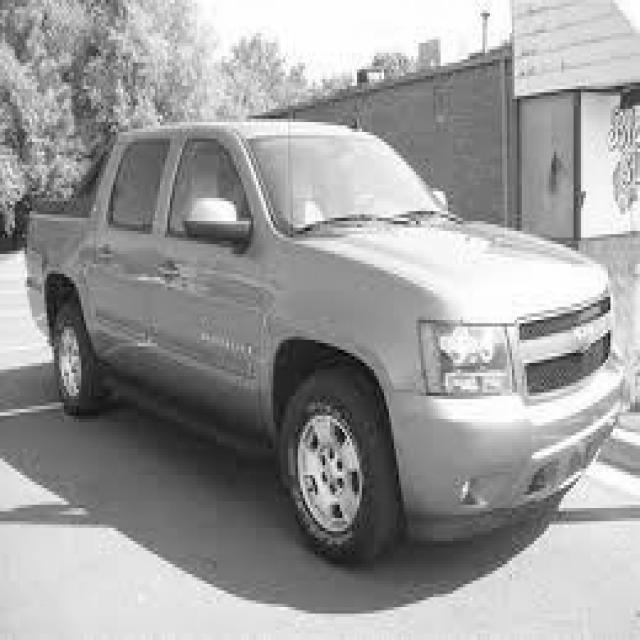car: (22, 116, 623, 564)
